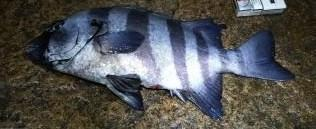fish: (27, 7, 292, 118)
